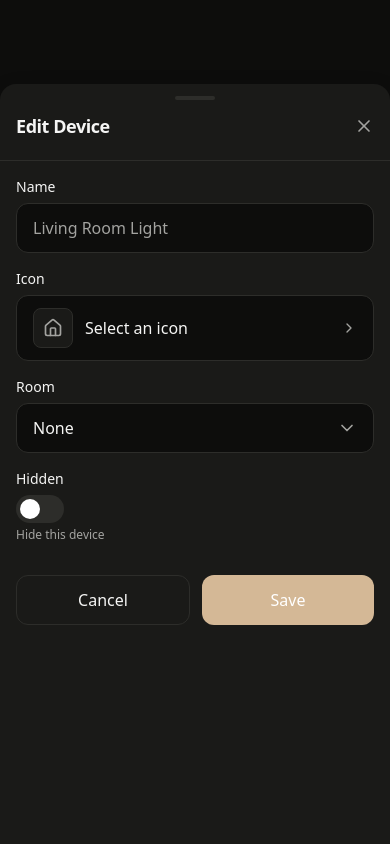
DeviceEditModal › Light Entity Tests › should show error toast on API failure
This screenshot has width=390, height=844.
Change name to trigger save
Type "New Name" into the field with placeholder "Living Room Light". click: (195, 228)
box: [16, 203, 374, 253]
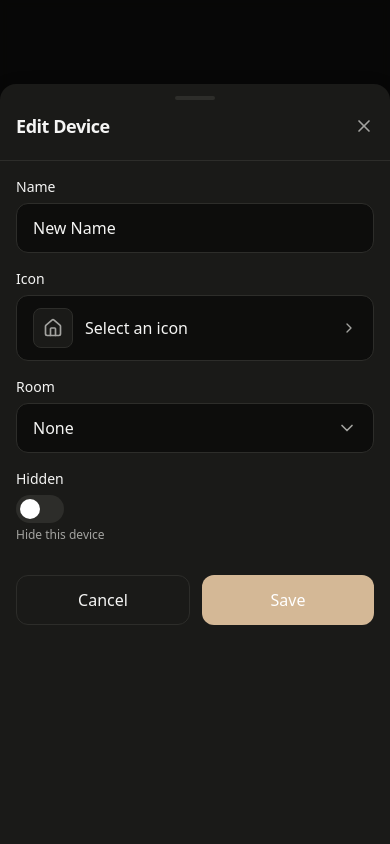
Click the button "Save". click: (288, 600)
box: [202, 575, 374, 625]
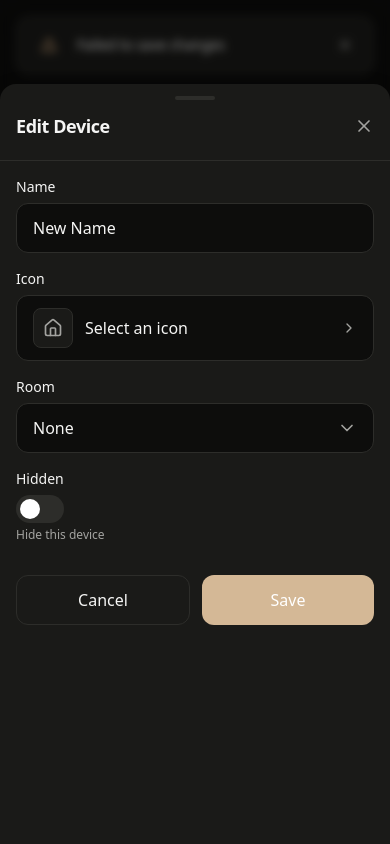
Result: the text "Failed to save changes" is shown at [77, 35, 225, 54]
